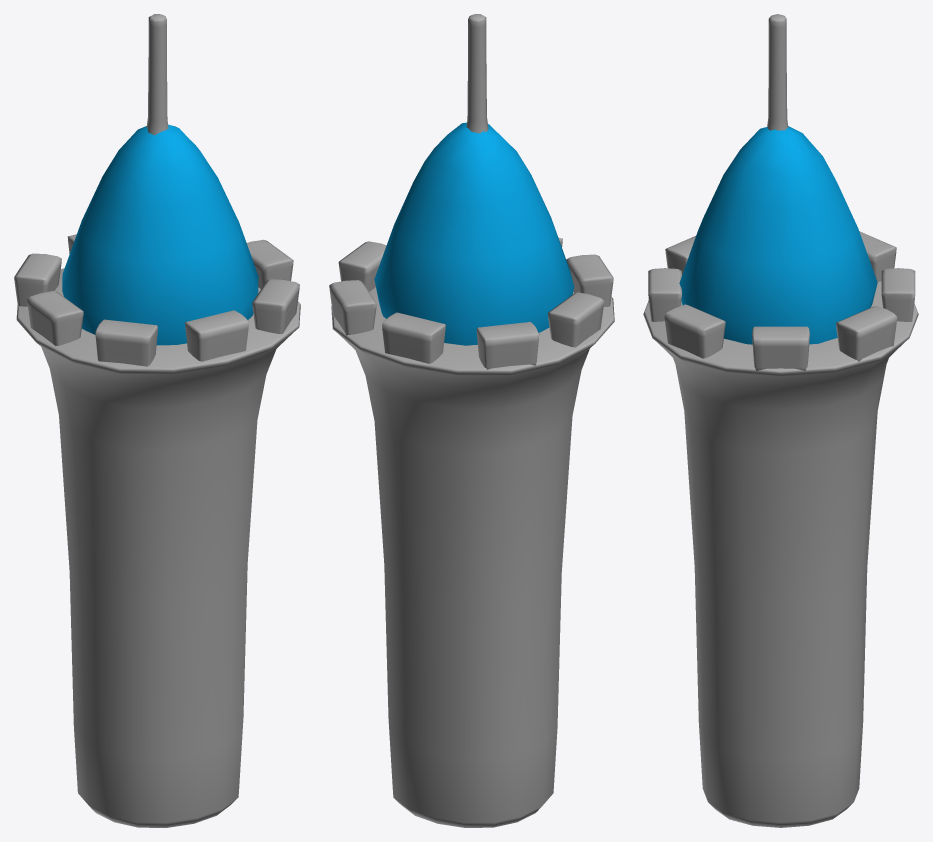
Rendered from TorreConCupula.fbx.
3 renders of one model, left to right at view 1: azimuth 30°, elevation 25°; view 2: azimuth 150°, elevation 25°; view 3: azimuth 270°, elevation 25°, orthographic.
Parts seen in each view (by area): view 1: polySurface58, BoyaBandera19, polySurface60, polySurface63; view 2: polySurface58, BoyaBandera19, polySurface60, polySurface63; view 3: polySurface58, BoyaBandera19, polySurface60, polySurface63.
Boxes of the visible parts, x1,y1,x2,y2 form: polySurface58: (16,268,300,827); BoyaBandera19: (62,124,258,345); polySurface60: (14,234,299,366); polySurface63: (146,14,168,135); polySurface58: (331,287,614,827); BoyaBandera19: (374,122,574,345); polySurface60: (329,237,613,369); polySurface63: (466,14,488,133); polySurface58: (643,281,918,827); BoyaBandera19: (679,126,877,344); polySurface60: (648,231,915,370); polySurface63: (767,14,788,130).
Bounding box in the file's own units: 8.59 × 26.33 × 8.4.
